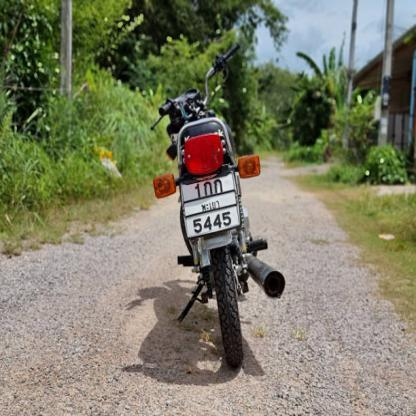Motorcycle: (146, 41, 291, 377)
